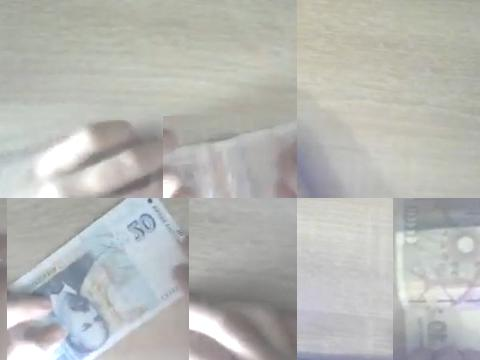10leva: (393, 198, 480, 356)
20leva: (7, 198, 189, 360)
5leva: (163, 121, 297, 198)
